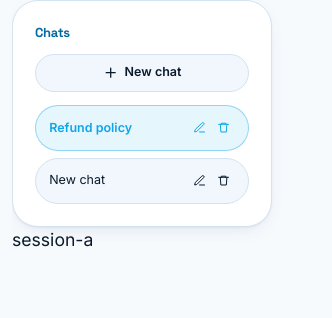
Test: ChatSessionsPanel: delete › deleting the currently active session navigates to the next one in the list
Expected: the button "Refund policy" is shown, [49,119,182,137]
Click the button named "Delete Refund policy". click: (224, 128)
box: [213,117,235,139]
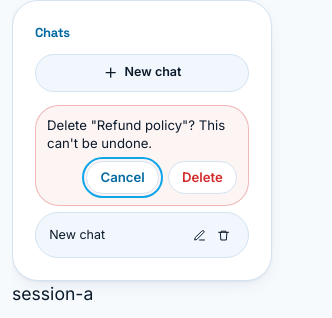
Click the button "Delete". click: (202, 177)
box: [168,161,237,194]
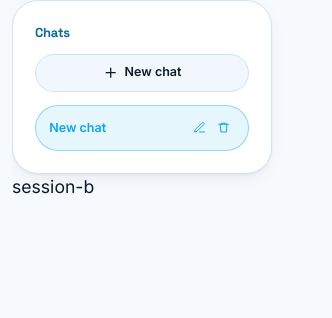
Expected: the text with test id "current-session" reads "session-b", [12,176,94,197]
